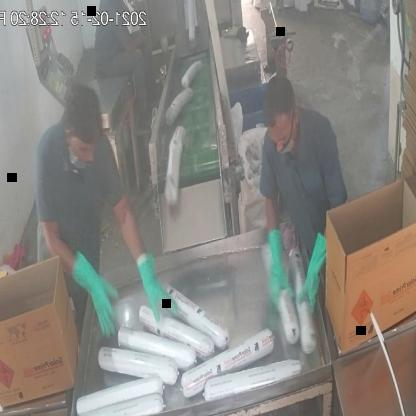glove: (70, 249, 122, 341), (296, 216, 338, 324), (137, 240, 179, 337), (260, 219, 294, 315)
no_glove: (110, 22, 152, 54)
